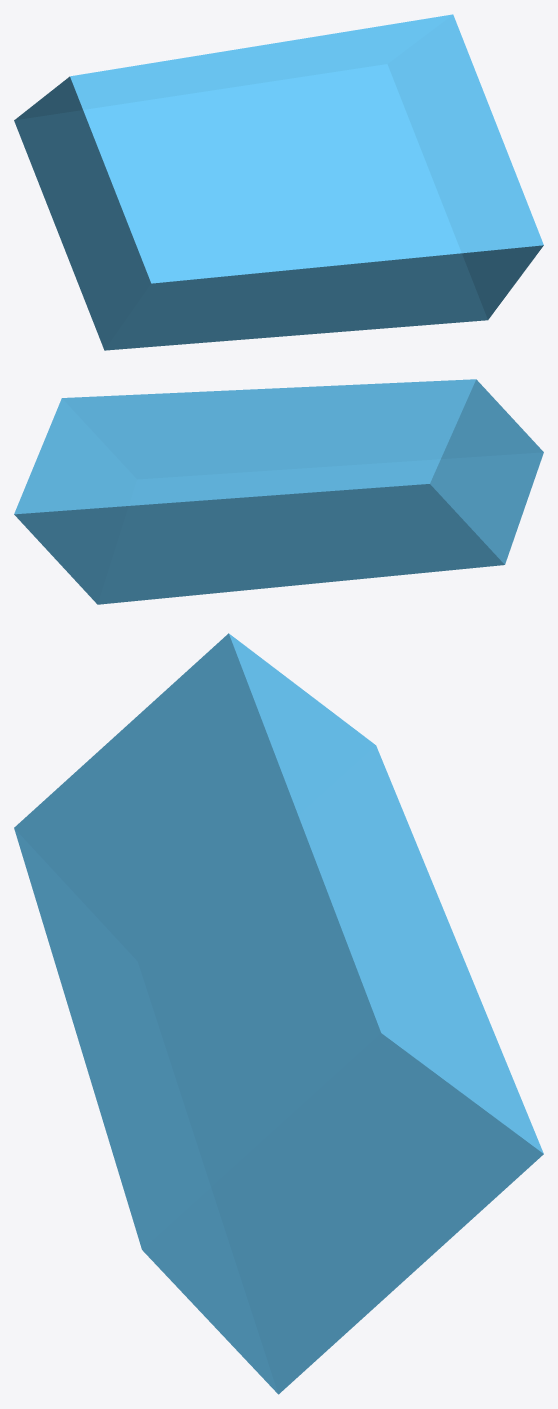
The model's file is Event_421278790_HErechit_34.fbx.
The picture shows the model from 3 angles, top to bottom: view 1: azimuth 30°, elevation 25°; view 2: azimuth 150°, elevation 25°; view 3: azimuth 270°, elevation 25°; orthographic projection. The views are drawn at different scales.
Visible parts, largest first — view 1: Model; view 2: Model; view 3: Model.
Boxes of the visible parts, x1,y1,x2,y2 form: Model: [14, 14, 543, 350]; Model: [14, 379, 543, 604]; Model: [14, 633, 543, 1394].
Bounding box in the file's own units: 1.27 × 0.9994 × 0.9994.
